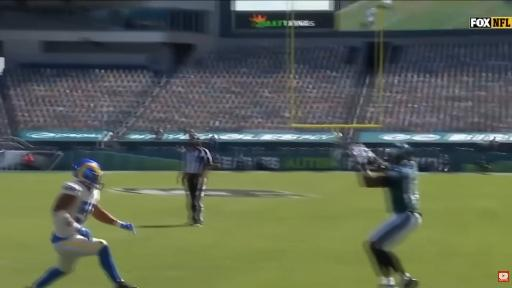Helmet: (73, 159, 103, 189), (387, 143, 412, 163)
Jersey: (385, 161, 420, 214), (58, 181, 100, 225)
Player: (30, 159, 136, 287), (363, 144, 421, 287)
